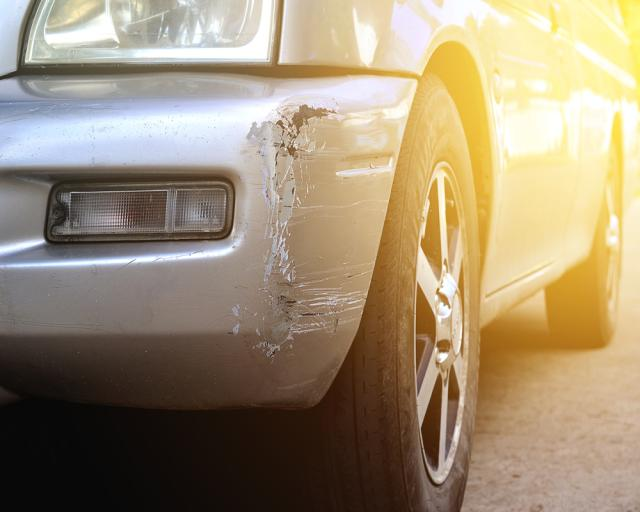scratch: (228, 95, 398, 360)
